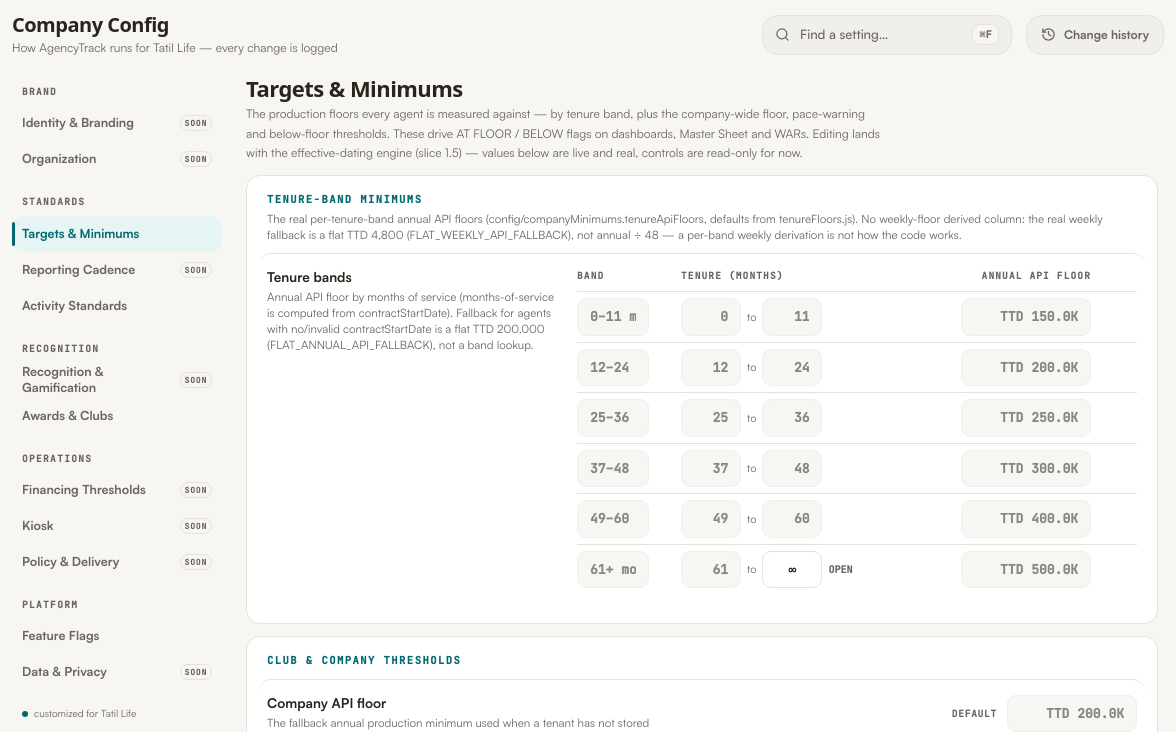
CompanyConfigSurface — smoke › lists the 2 real feature flags in the Flags section (persistencyV2 retired — P-D6)
Click the button with test id "ccfg-rail-flags": (117, 636) [12,618,222,654]
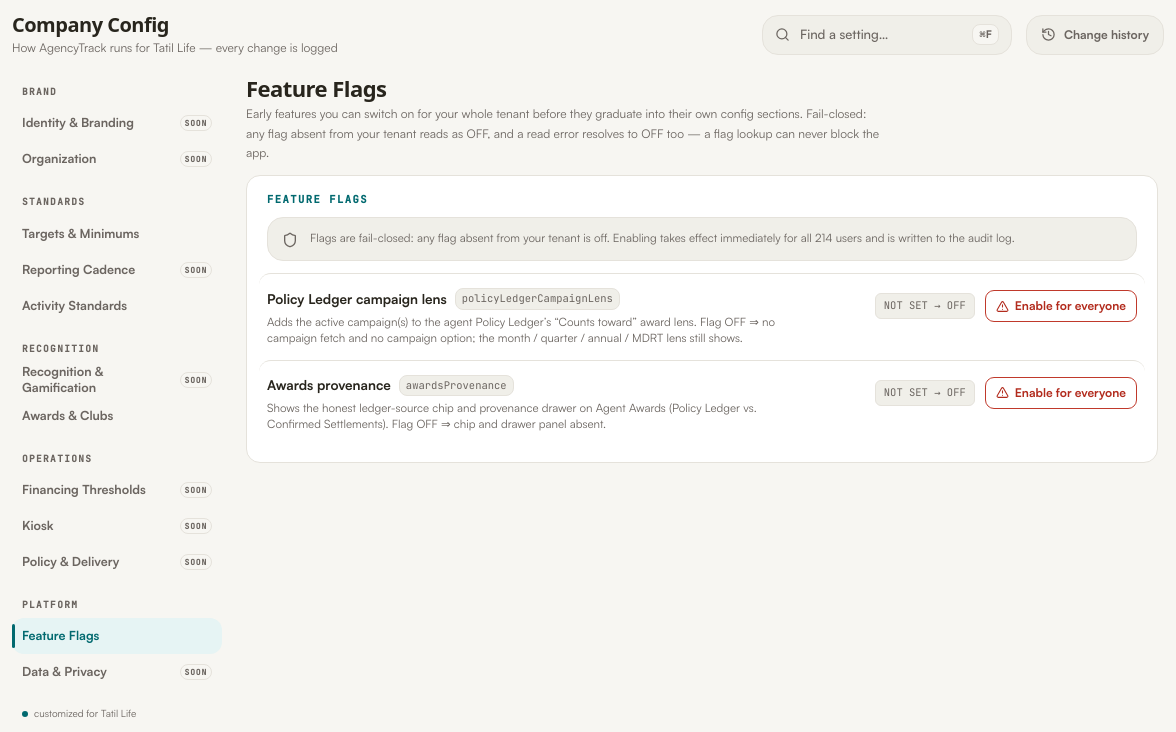
Expected: the element with test id "ccfg-flag-policyLedgerCampaignLens" is shown, [259,273,1145,360]
Expected: the element with test id "ccfg-flag-awardsProvenance" is shown, [259,360,1145,446]
